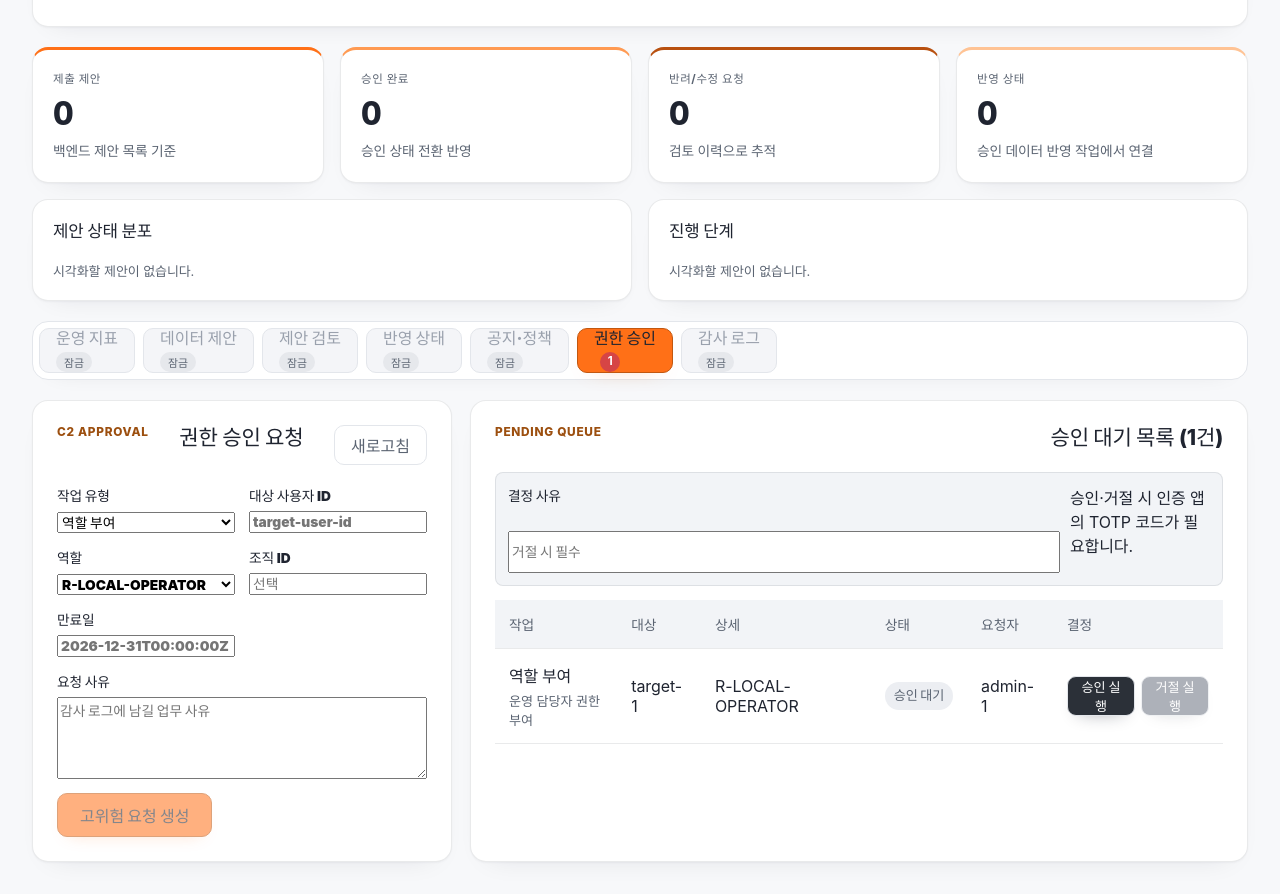
it: high-risk decision flows (super admin) › surfaces the backend self-approval rejection after MFA retry
(page scrolled)
Expected: the heading "권한 승인 요청" is shown, [179,425,303,452]
Click the button "승인 실행". click: (1101, 696)
box: [1067,676,1135,716]
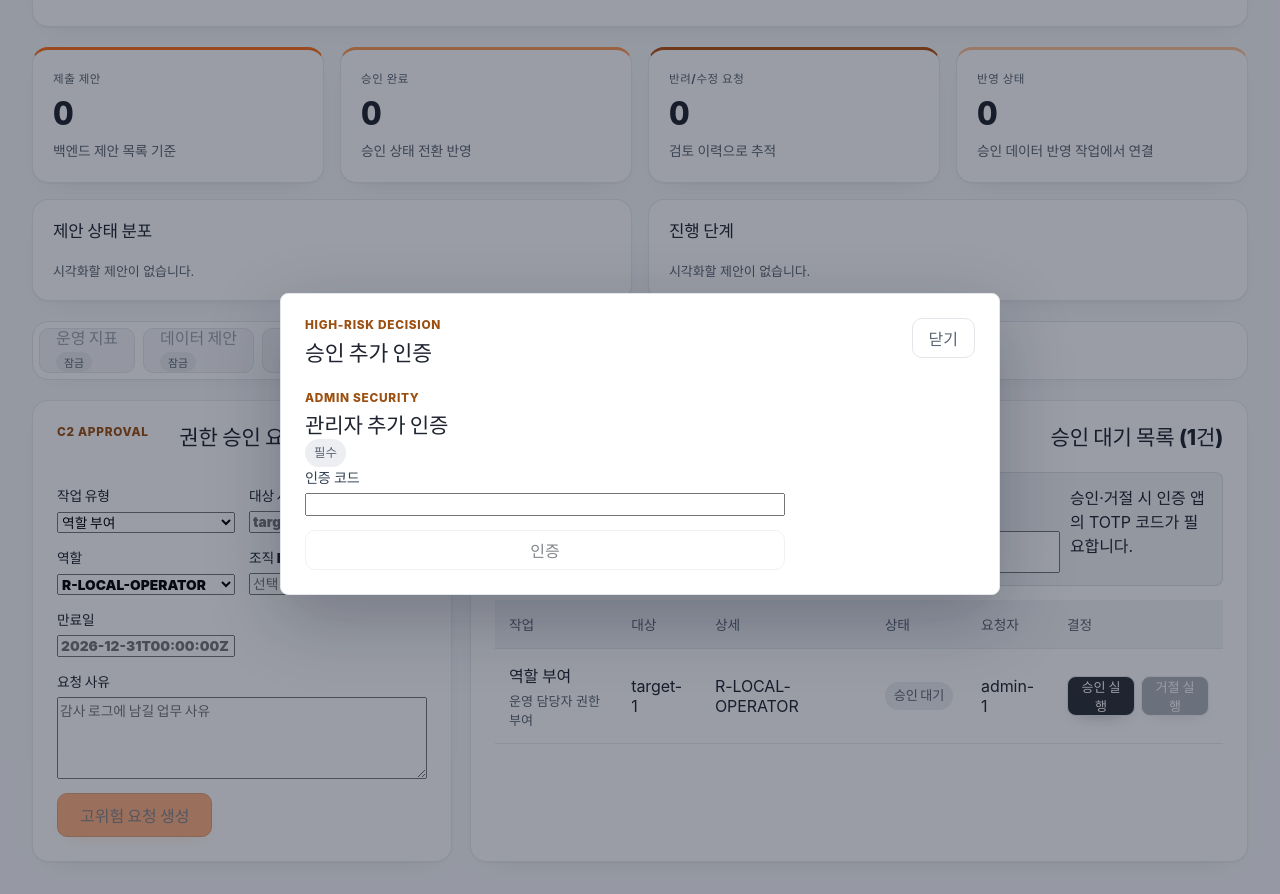
Type "123456" into the field labelled "인증 코드". click: (545, 505)
box: [305,493,785,516]
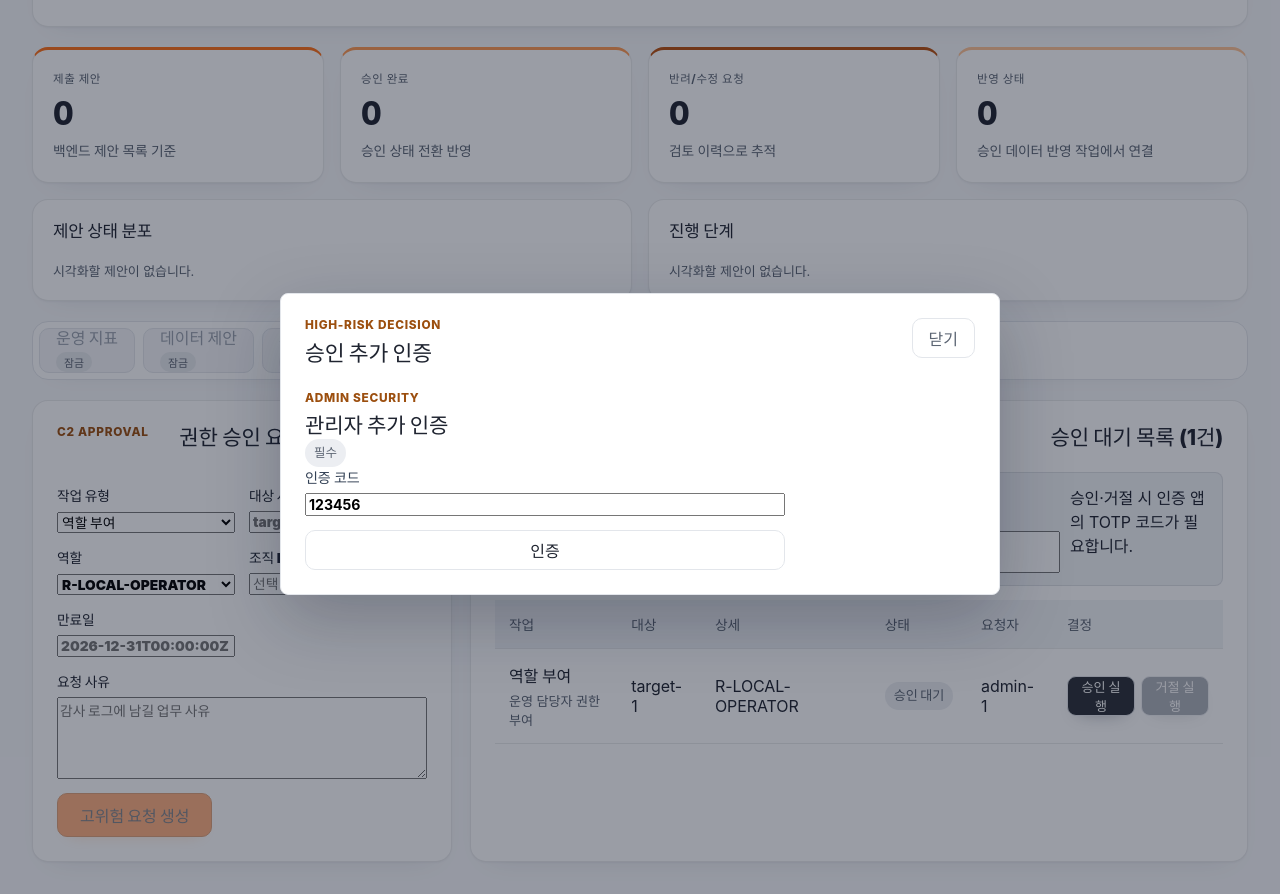
Click the button "인증". click: (545, 550)
box: [305,530,785,570]
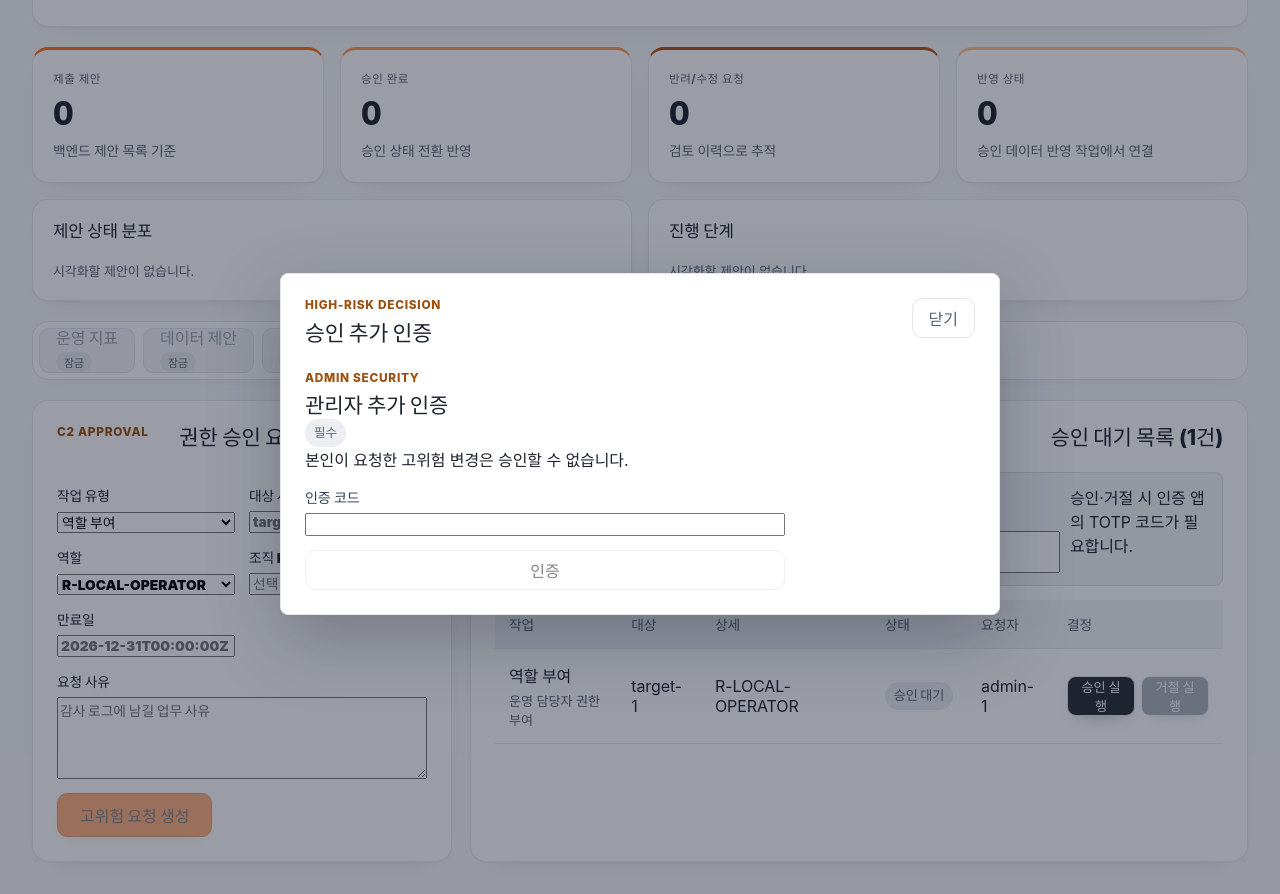
Expected: the text "본인이 요청한 고위험 변경은 승인할 수 없습니다." is shown, [305,450,628,470]
